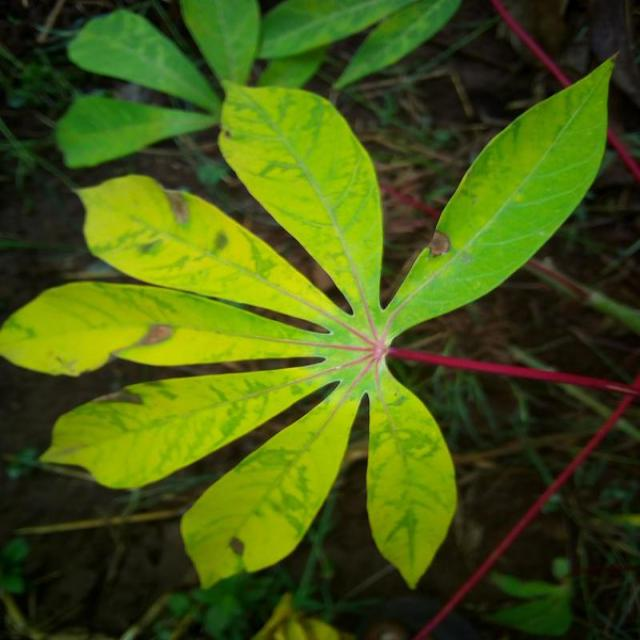cassava leaf: (0, 48, 620, 592), (384, 48, 619, 339), (216, 78, 384, 315)
